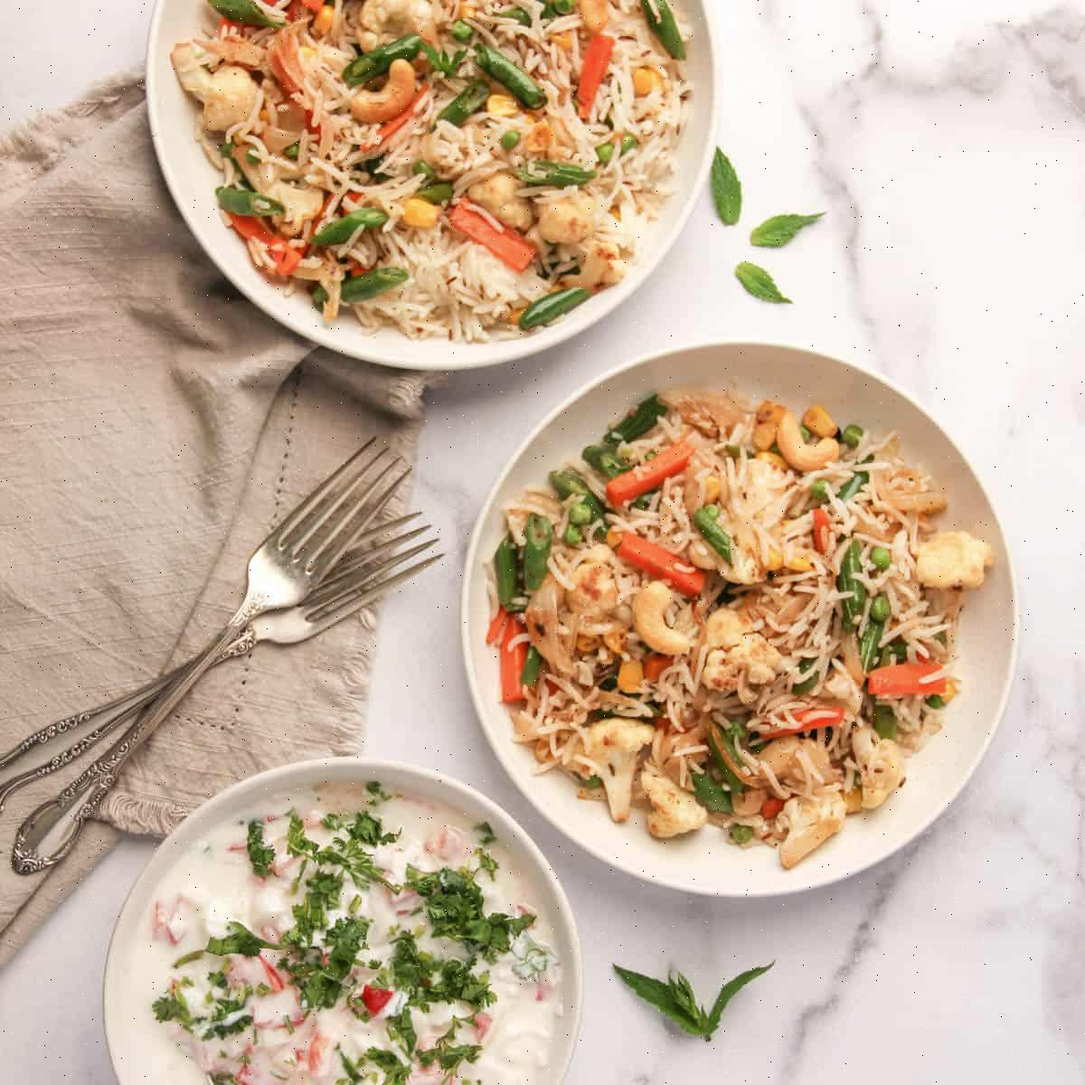veg-pulao: (499, 399, 1026, 899), (156, 14, 778, 368)
yogurt: (130, 798, 580, 1085)
